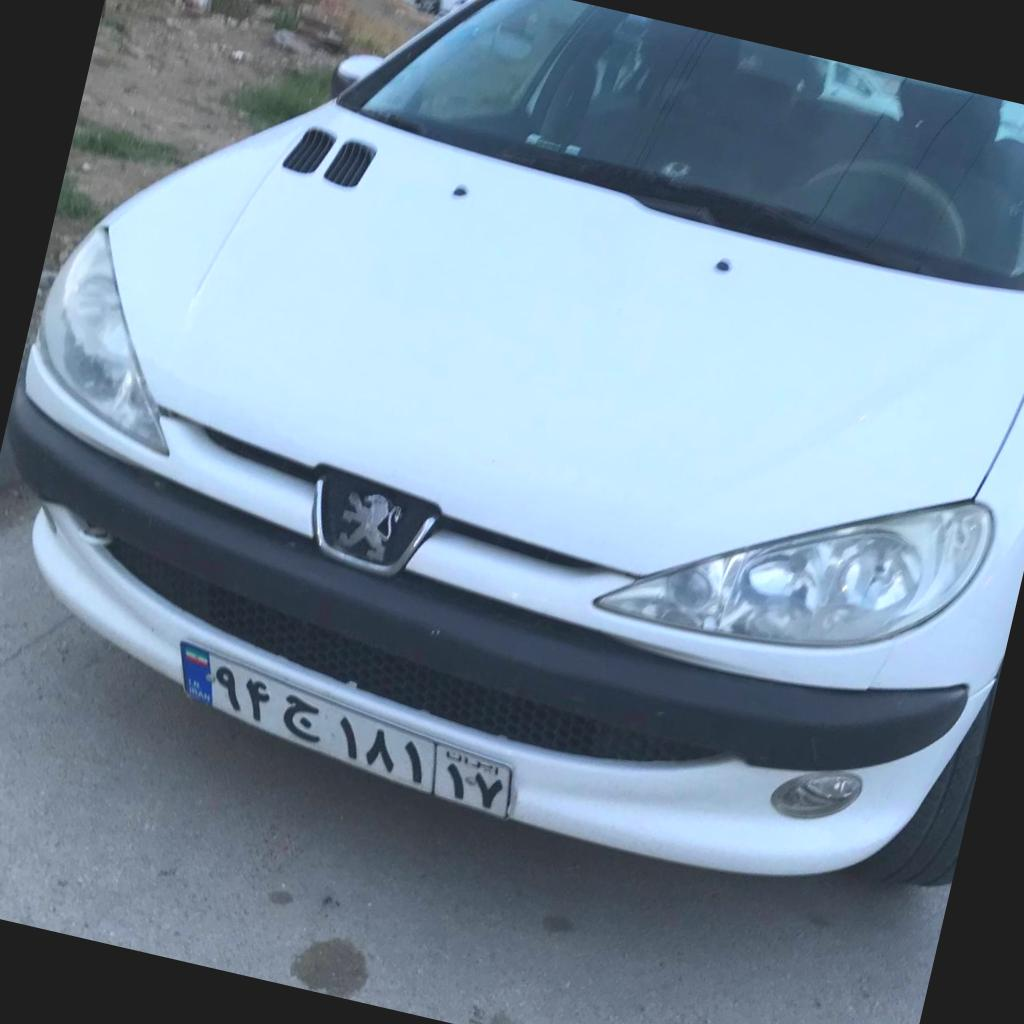Plates: (184, 642, 513, 820)
